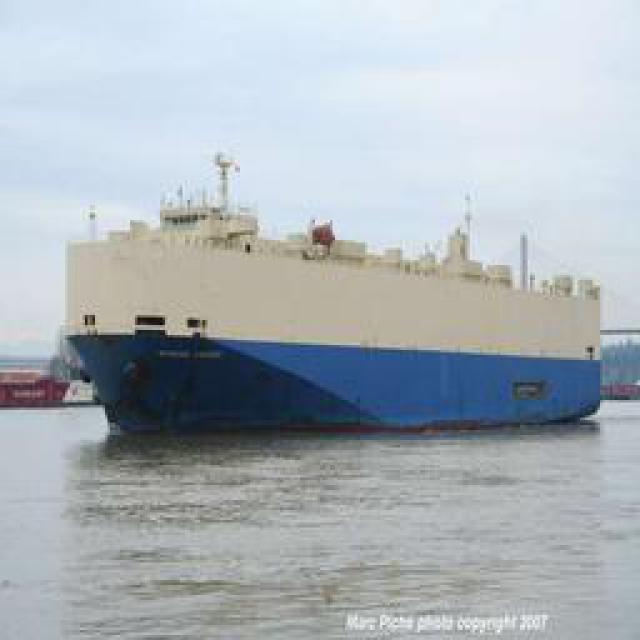Ship: (63, 192, 611, 445)
